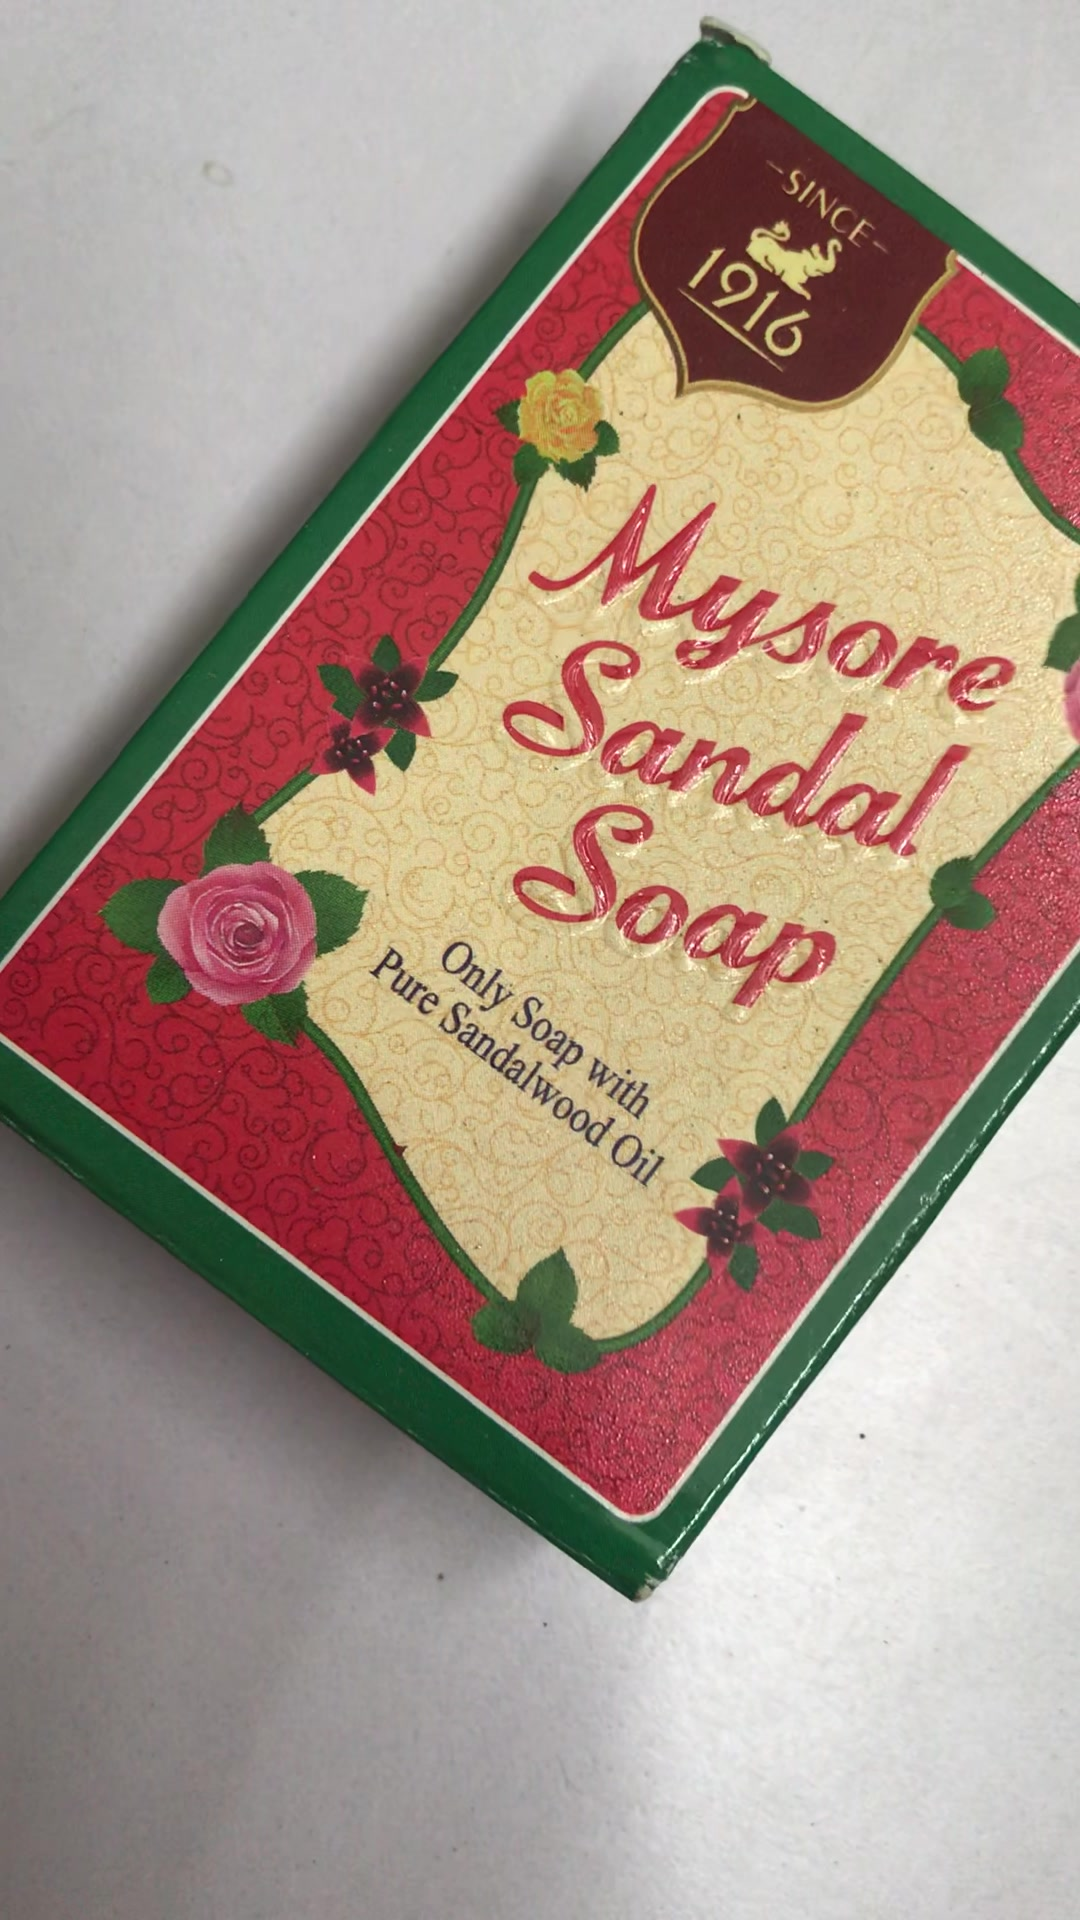mysore sandal soap: (3, 26, 1080, 1600)
